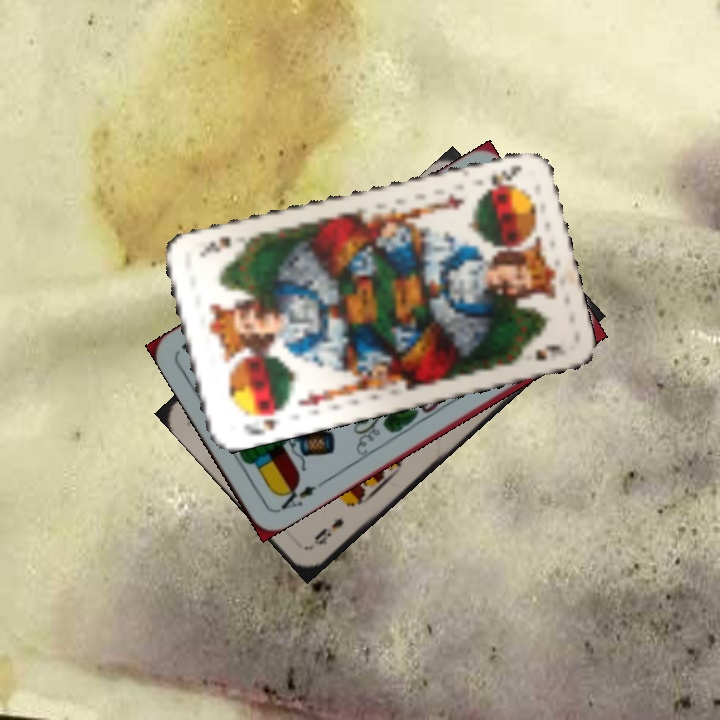E9: (310, 514, 347, 548)
EA: (273, 477, 326, 515)
SK: (239, 404, 286, 437), (486, 160, 524, 189)
